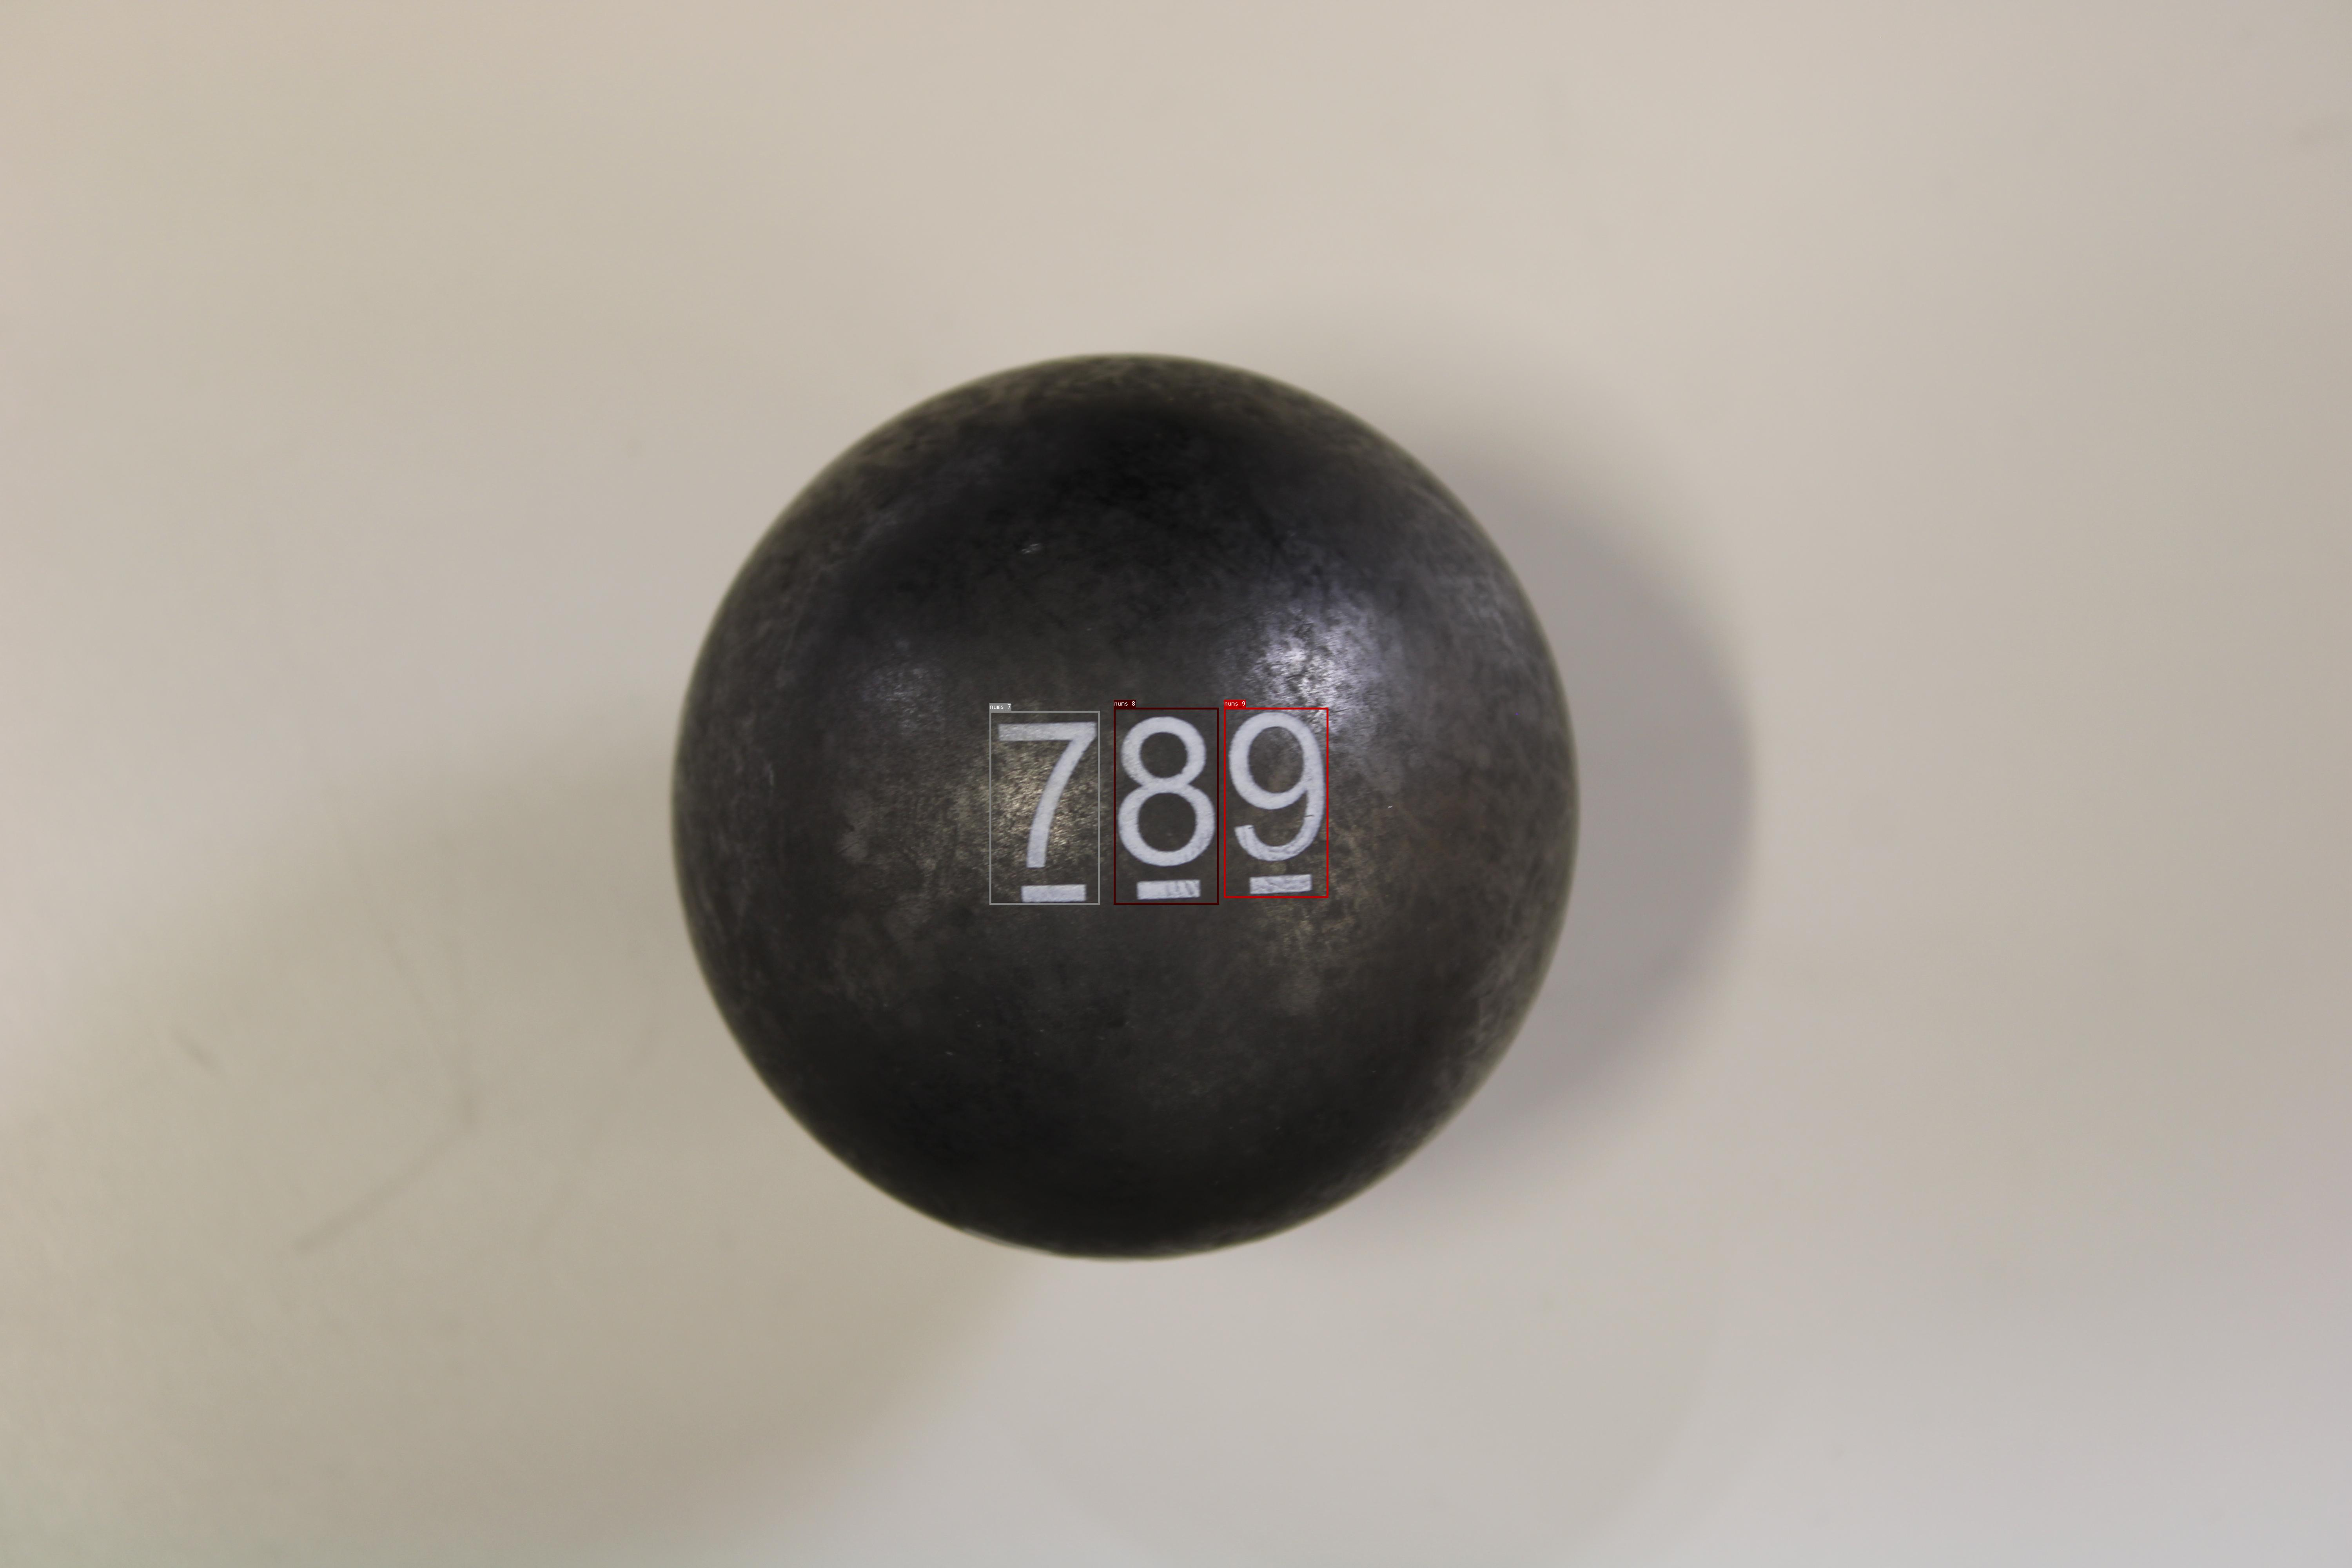nums_7: (989, 710, 1099, 905)
nums_8: (1113, 707, 1218, 905)
nums_9: (1223, 707, 1328, 898)
